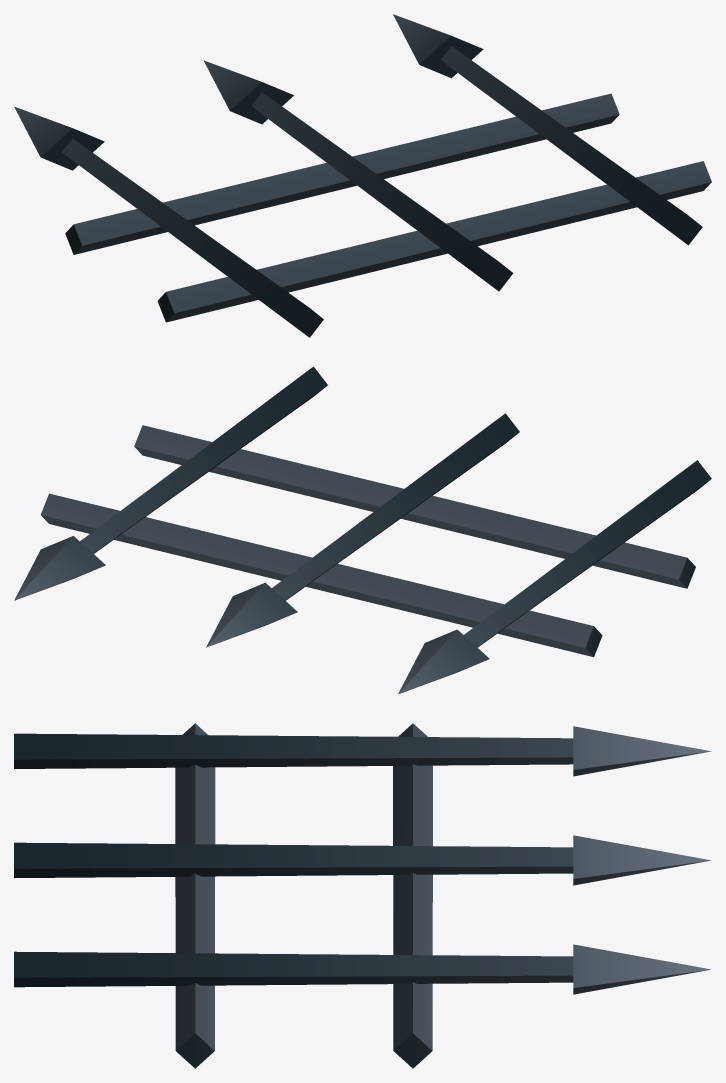
Rendered from Metal Fence 01.FBX.
The picture shows the model from 3 angles, top to bottom: view 1: azimuth 30°, elevation 25°; view 2: azimuth 150°, elevation 25°; view 3: azimuth 270°, elevation 25°; orthographic projection. The views are drawn at different scales.
Visible parts, largest first — view 1: Metal Fence 01; view 2: Metal Fence 01; view 3: Metal Fence 01.
Boxes of the visible parts, bbox=[...] form: Metal Fence 01: bbox=[14, 14, 711, 337]; Metal Fence 01: bbox=[14, 366, 711, 694]; Metal Fence 01: bbox=[14, 723, 711, 1068].
Bounding box in the file's own units: 284 × 270 × 30.71.
1 material, 1 textured.
